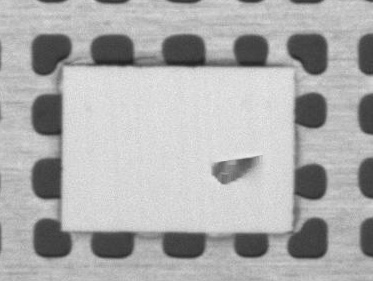DIE_INK: (212, 153, 261, 187)
